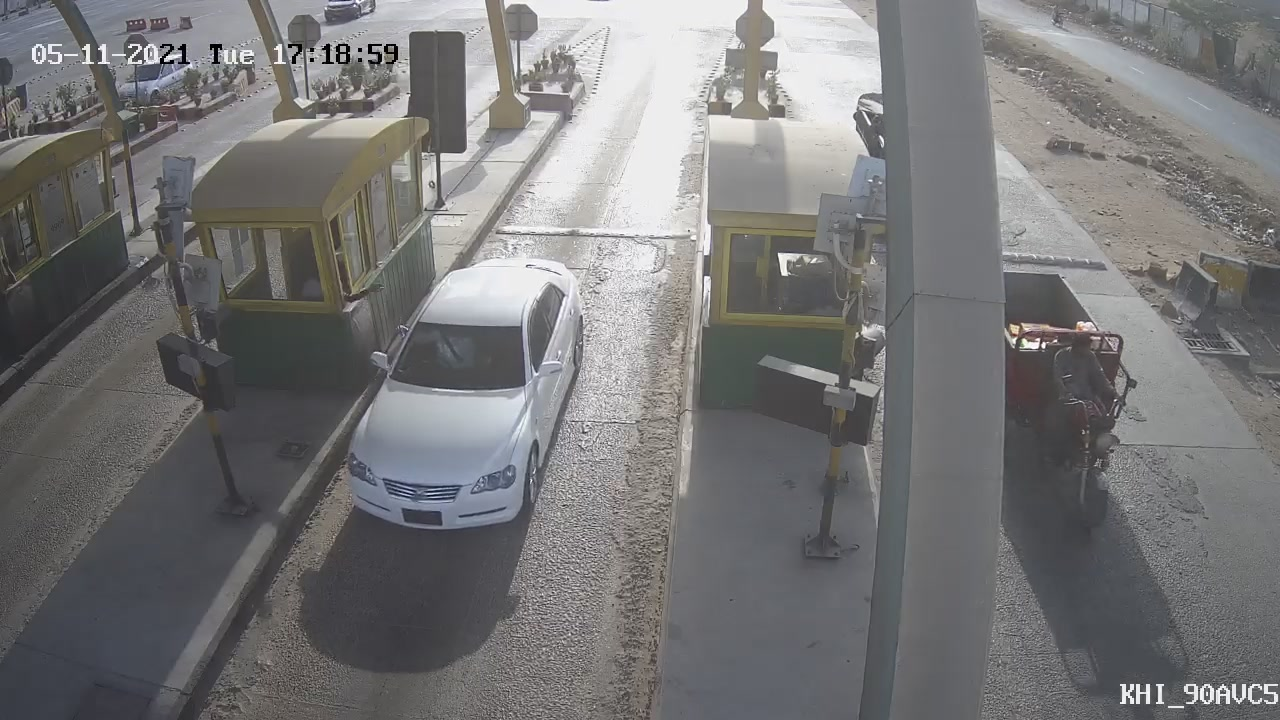F1: (301, 236, 605, 556)
